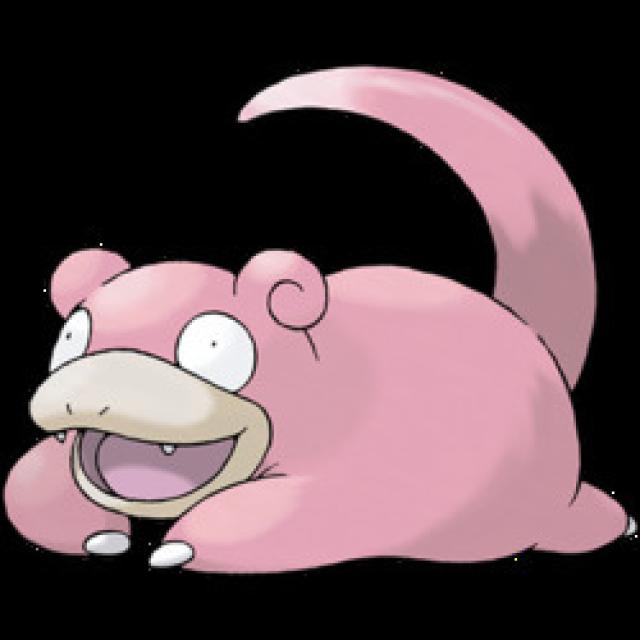Slowpoke: (0, 198, 611, 598)
